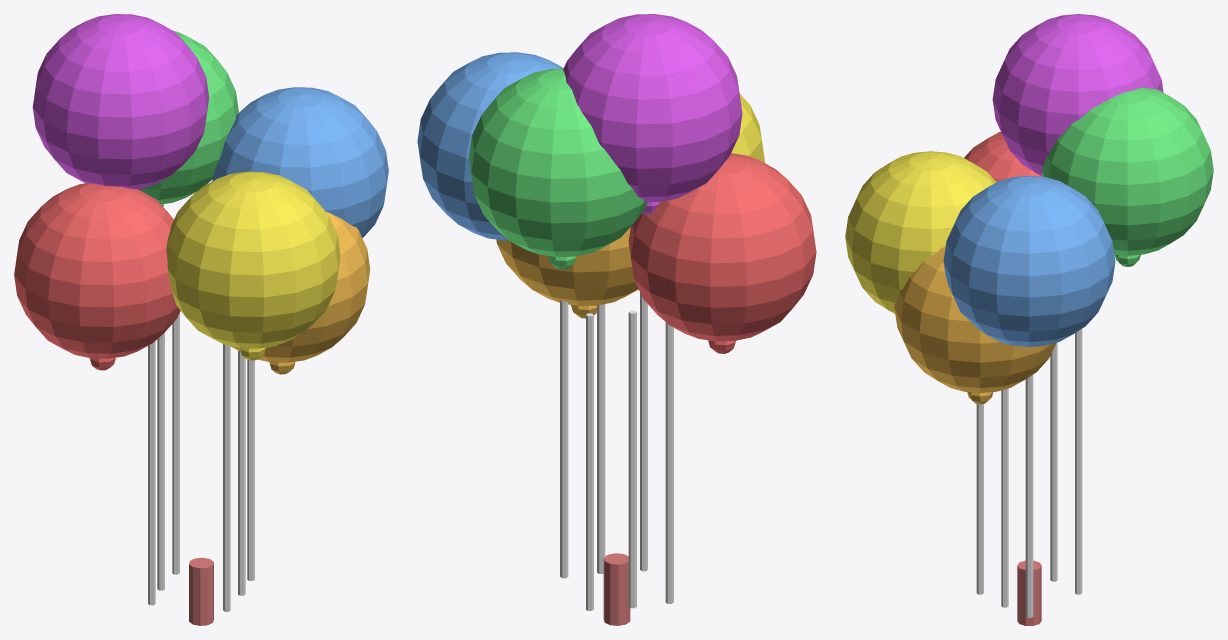
File: balloon_bunch.fbx
3 renders of one model, left to right at view 1: azimuth 30°, elevation 25°; view 2: azimuth 150°, elevation 25°; view 3: azimuth 270°, elevation 25°, orthographic. The views are drawn at different scales.
Visible parts, largest first — view 1: Balloon_3, Balloon_4, Balloon_0, Balloon_1, Balloon_5, Balloon_2, Str_3, Str_0, Str_2, Str_4, Str_5, Str_1 (+1 smaller); view 2: Balloon_0, Balloon_4, Balloon_2, Balloon_1, Balloon_5, Str_4, Str_0, Str_1, Str_5, Str_2, Str_3, BallGrip (+1 smaller); view 3: Balloon_1, Balloon_2, Balloon_4, Balloon_3, Balloon_5, Str_1, Str_2, Str_4, Balloon_0, Str_5, Str_3, BallGrip.
Boxes of the visible parts, box(x1,y1,x2,y2) form: Balloon_3: box(166, 171, 340, 348); Balloon_4: box(32, 14, 209, 189); Balloon_0: box(14, 183, 180, 358); Balloon_1: box(212, 87, 388, 237); Balloon_5: box(231, 212, 370, 362); Balloon_2: box(138, 31, 238, 204); Str_3: box(223, 344, 230, 611); Str_0: box(148, 341, 155, 605); Str_2: box(172, 313, 179, 574); Str_4: box(157, 332, 164, 590); Str_5: box(238, 350, 245, 595); Str_1: box(247, 359, 254, 580); Balloon_0: box(628, 153, 816, 341); Balloon_4: box(563, 14, 742, 202); Balloon_2: box(469, 68, 647, 256); Balloon_1: box(417, 52, 563, 240); Balloon_5: box(496, 227, 638, 305); Str_4: box(628, 310, 636, 608); Str_0: box(665, 322, 673, 603); Str_1: box(560, 300, 568, 578); Str_5: box(597, 304, 605, 573); Str_2: box(586, 313, 593, 610); Str_3: box(640, 292, 647, 571); BallGrip: box(603, 553, 630, 625); Balloon_1: box(943, 175, 1115, 346); Balloon_2: box(1042, 87, 1213, 255); Balloon_4: box(992, 14, 1163, 176); Balloon_3: box(845, 151, 996, 313); Balloon_5: box(894, 245, 1055, 392); Str_1: box(1025, 375, 1033, 617); Str_2: box(1075, 329, 1082, 594); Str_4: box(1050, 342, 1057, 581); Balloon_0: box(964, 131, 1041, 181); Str_5: box(1001, 388, 1008, 607); Str_3: box(976, 404, 983, 594); BallGrip: box(1017, 560, 1041, 625).
Bounding box in the file's own units: 0.64 × 1.03 × 0.6.
